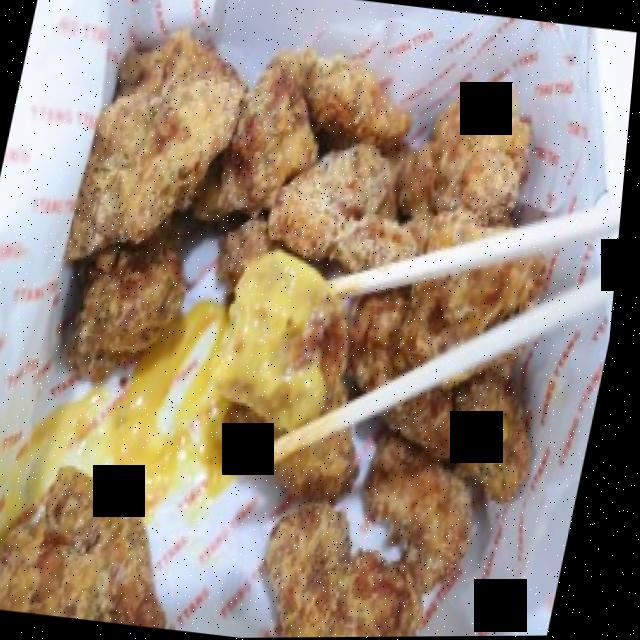Frango: (14, 15, 623, 640)
